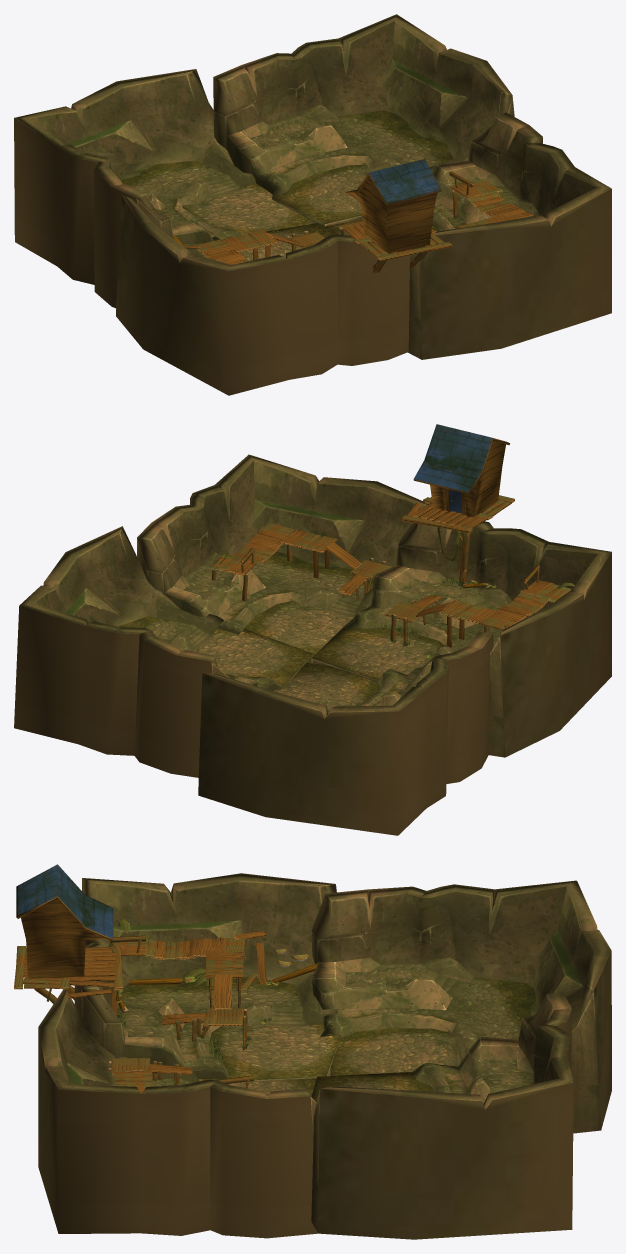
Rendered from MyGameStage300.fbx.
3 views of the same model, one above another, from view 1: azimuth 30°, elevation 25°; view 2: azimuth 150°, elevation 25°; view 3: azimuth 270°, elevation 25° (orthographic). The views are drawn at different scales.
Visible parts, largest first — view 1: polySurface1325; view 2: polySurface1325; view 3: polySurface1325.
Boxes of the visible parts, x1=… form: polySurface1325: x1=14, y1=14, x2=611, y2=395; polySurface1325: x1=14, y1=424, x2=611, y2=835; polySurface1325: x1=14, y1=864, x2=611, y2=1239.
Bounding box in the file's own units: 357 × 162 × 376.
